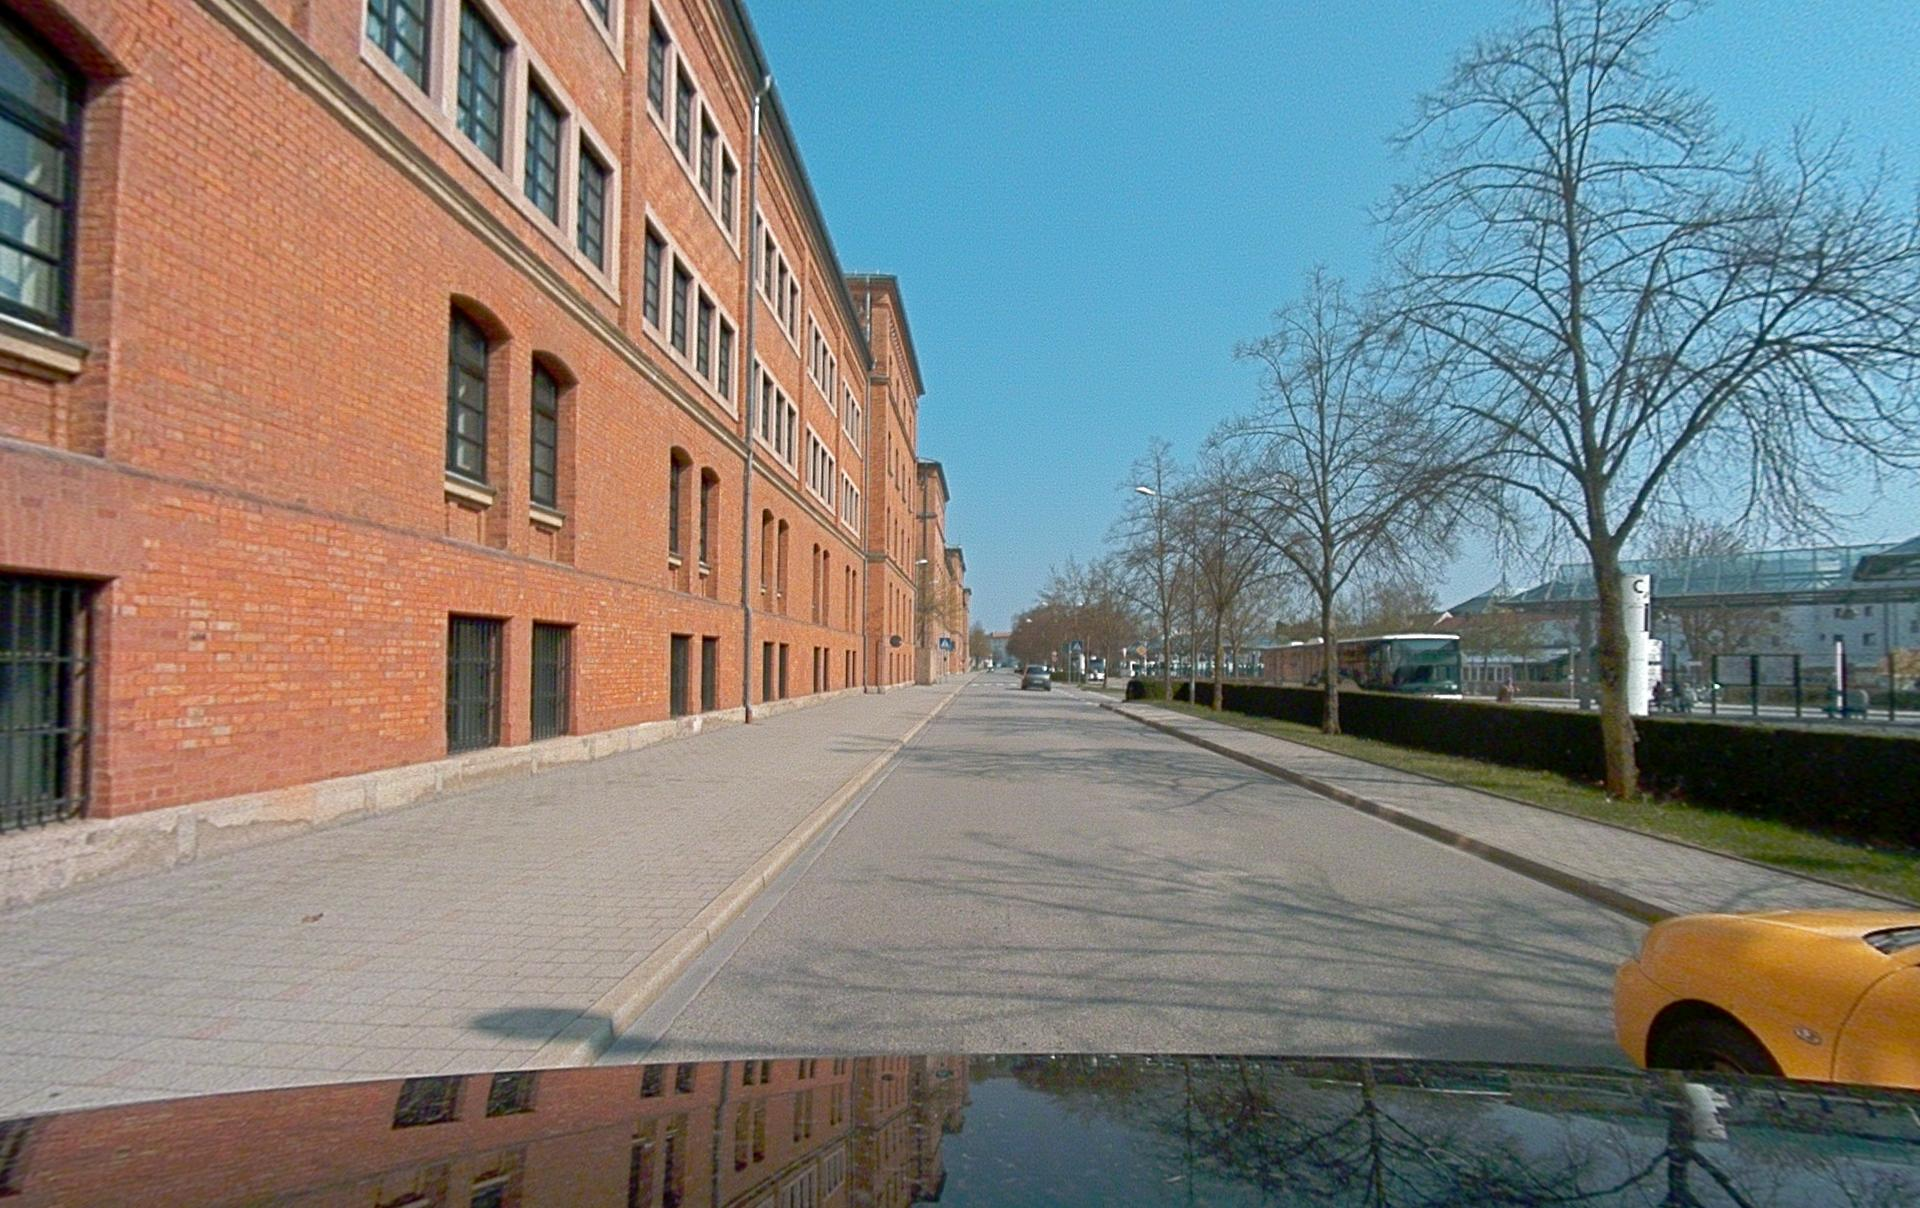car: (1612, 909, 1920, 1092), (1021, 665, 1051, 690)
traffic sign: (938, 637, 955, 651)
